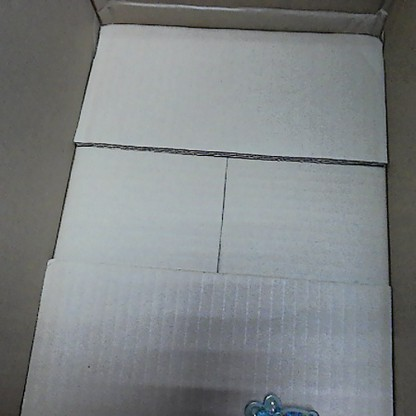bluefish: (241, 390, 324, 414)
